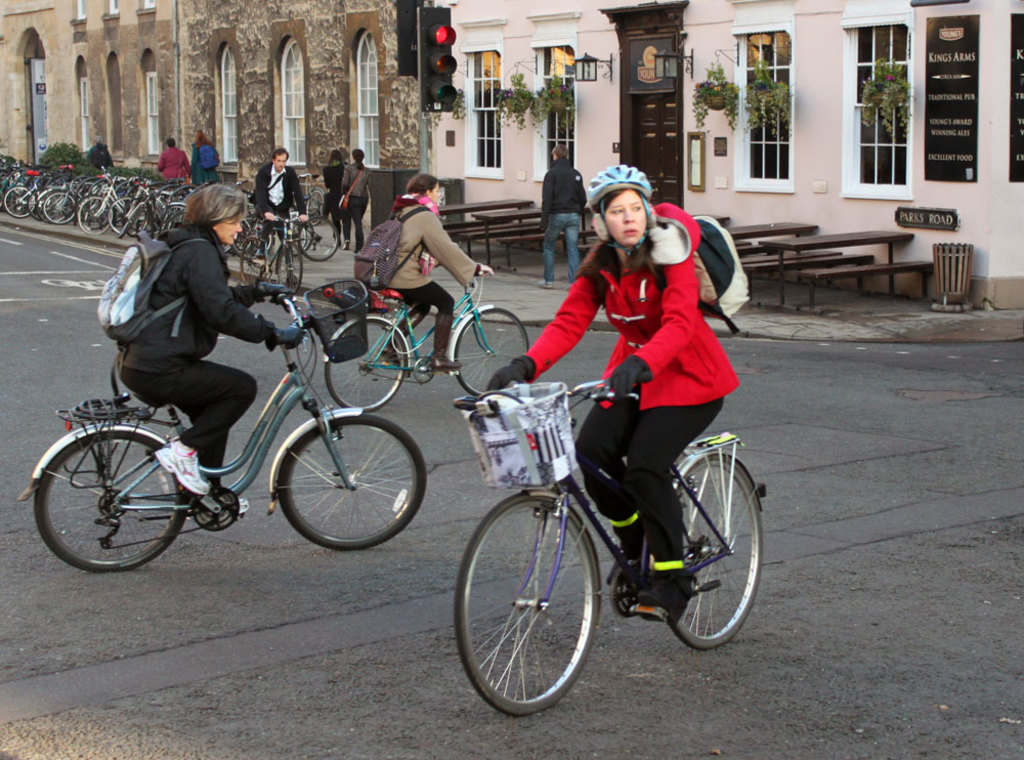Bike_away: (20, 286, 430, 571), (325, 285, 535, 410)
Bike_toward: (450, 380, 772, 718)
